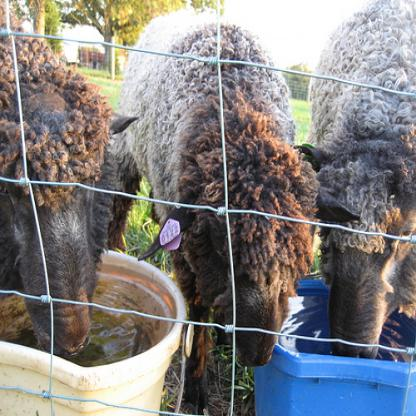sheep: (109, 7, 318, 405), (0, 0, 143, 355), (296, 0, 416, 360)
